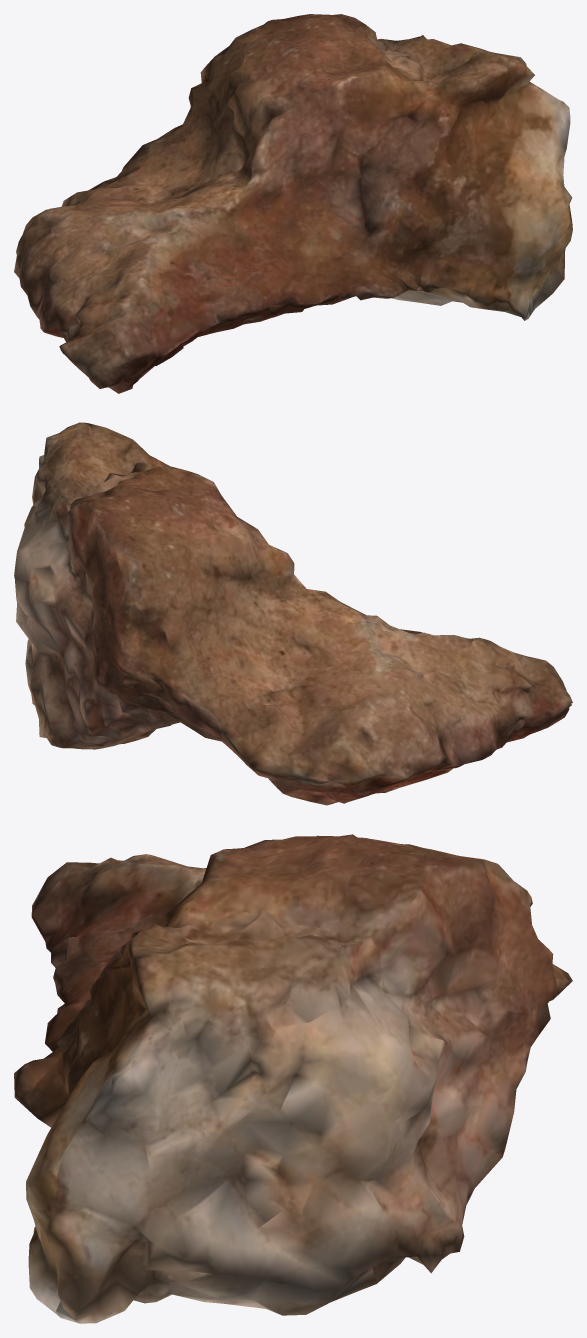
Rendered from stone_01.glb.
The picture shows the model from 3 angles, top to bottom: view 1: azimuth 30°, elevation 25°; view 2: azimuth 150°, elevation 25°; view 3: azimuth 270°, elevation 25°; orthographic projection. The views are drawn at different scales.
Parts seen in each view (by area): view 1: stone_01; view 2: stone_01; view 3: stone_01.
Boxes of the visible parts, x1,y1,x2,y2 form: stone_01: [14, 14, 572, 393]; stone_01: [14, 422, 572, 805]; stone_01: [14, 834, 572, 1323].
Bounding box in the file's own units: 0.1469 × 0.0711 × 0.089.
1 material, 1 textured.
